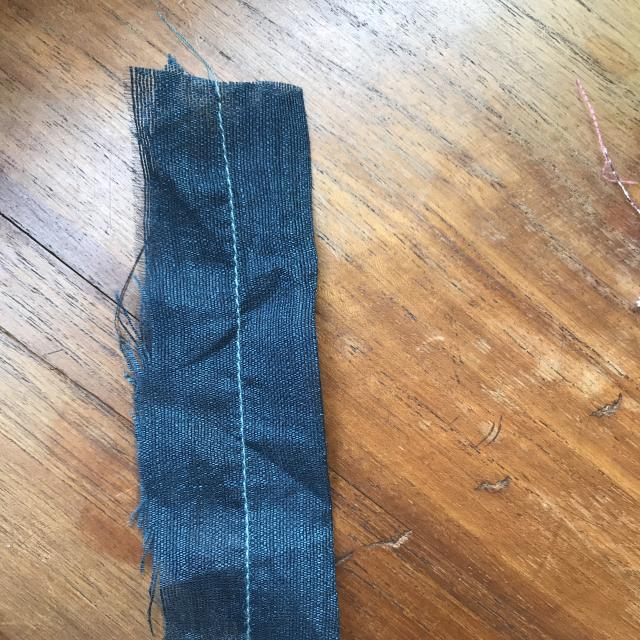good: (215, 240, 270, 545)
